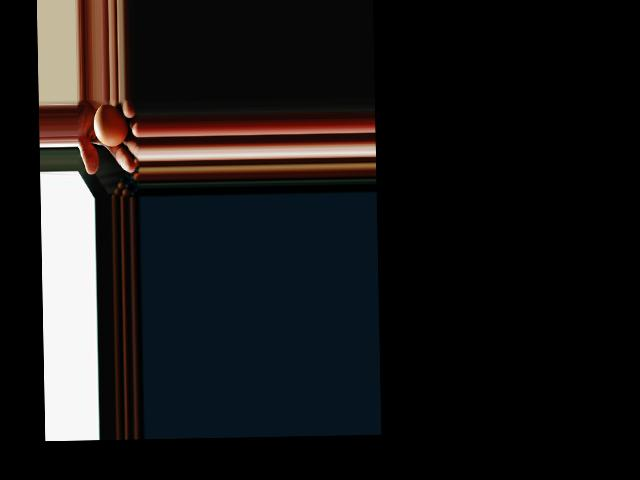egg: (93, 102, 129, 146)
